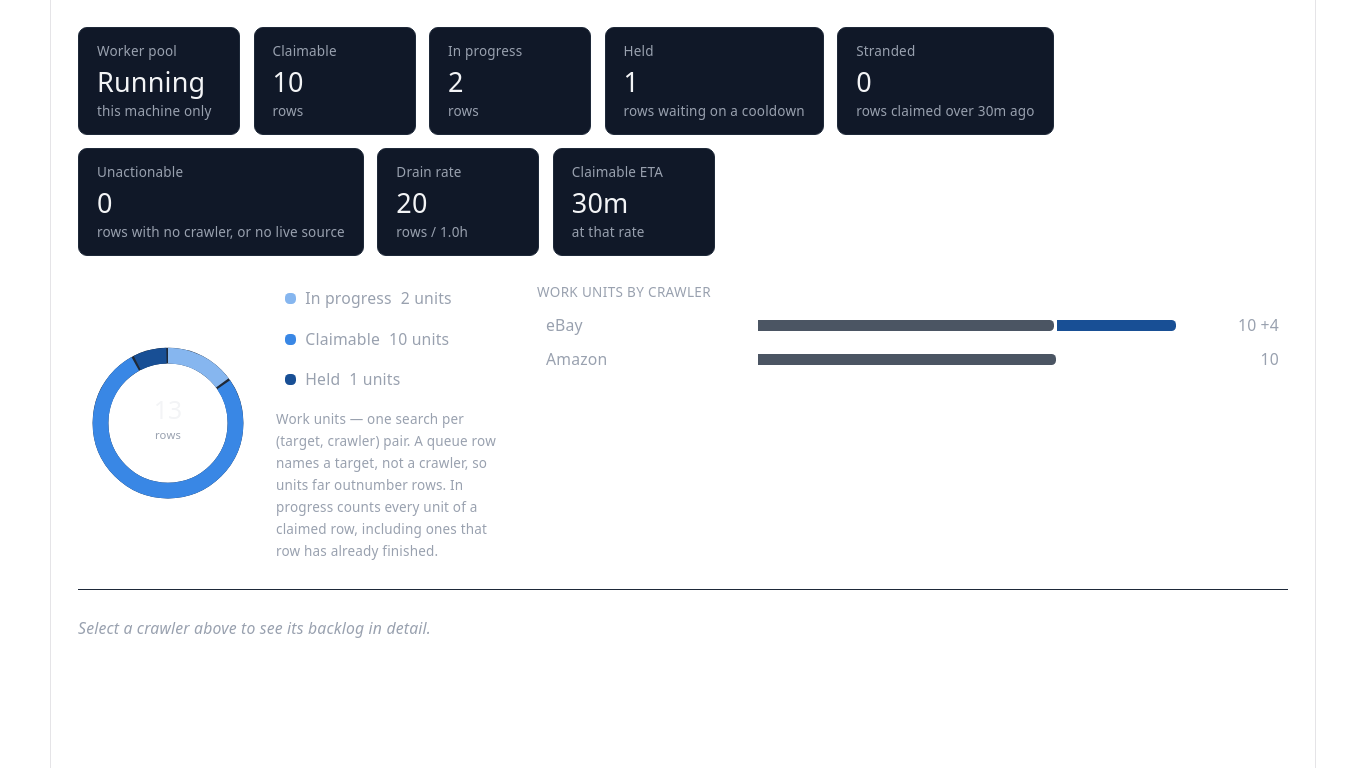
Test: QueueView › drops a selected crawler from the detail panels when a filter hides it
The image size is (1366, 768).
Click the button "Amazon 10": (912, 359) top-left (537, 344), bottom-right (1288, 375)
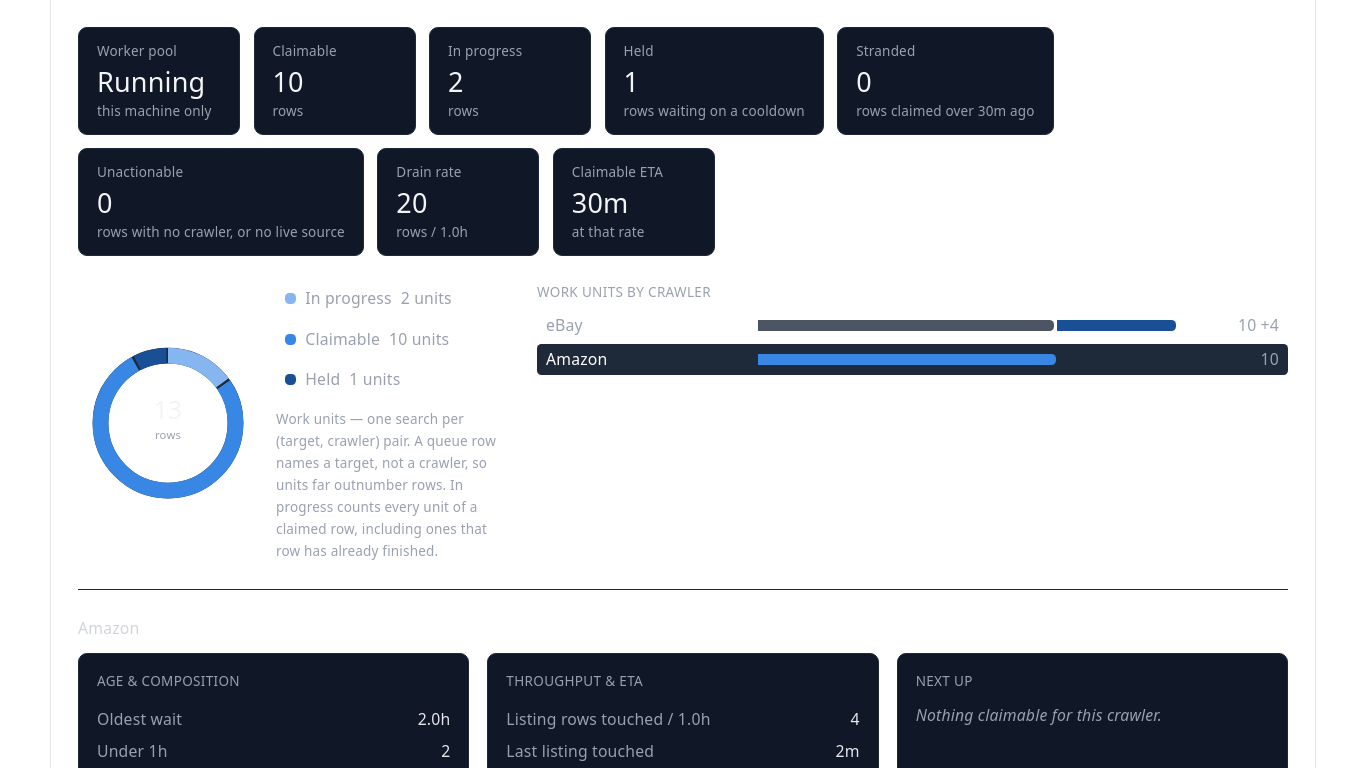
Check: the text "Age & composition" is shown, box top-left (97, 672), bottom-right (240, 690)
Click the button "Held 1 units": (393, 380) top-left (276, 364), bottom-right (510, 395)
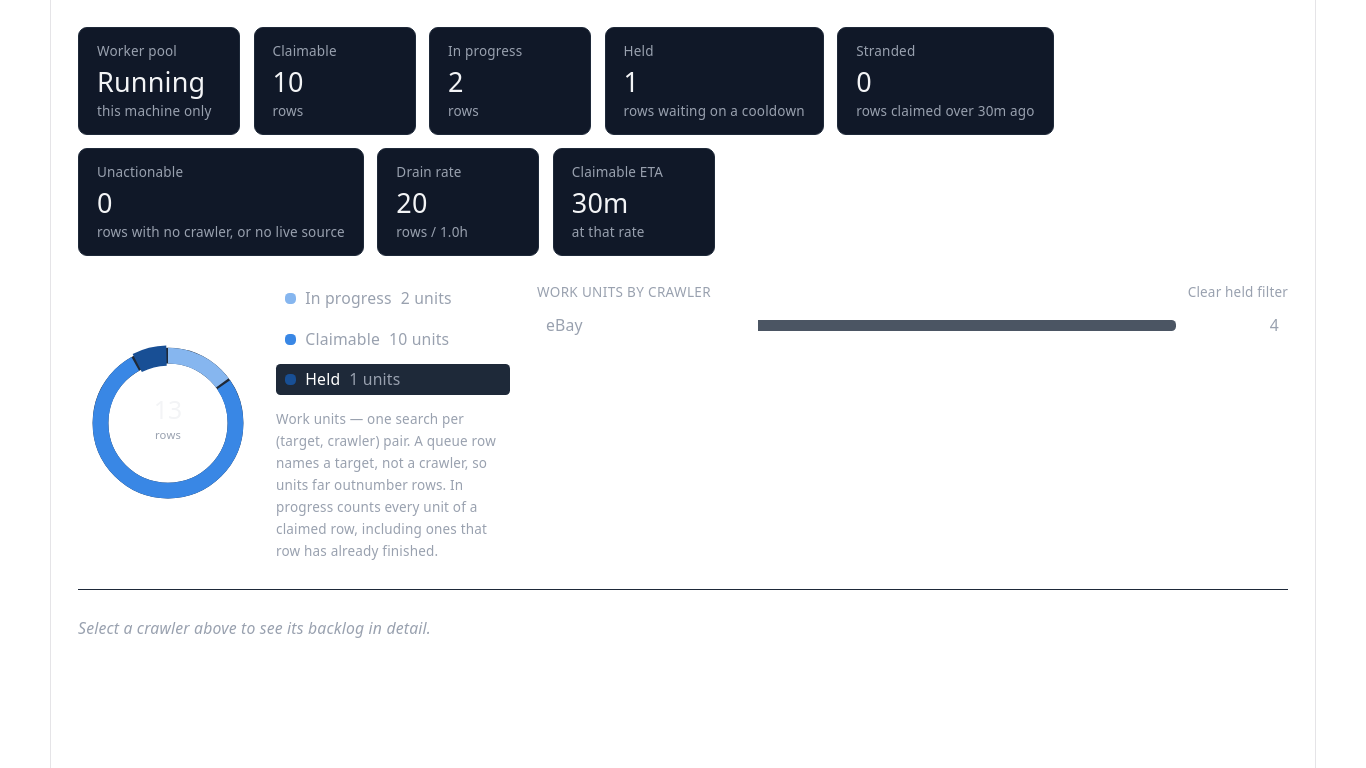
Check: the text "Age & composition" is gone
Check: the text "Select a crawler above to see its backlog in detail." is shown, box top-left (78, 618), bottom-right (431, 640)
